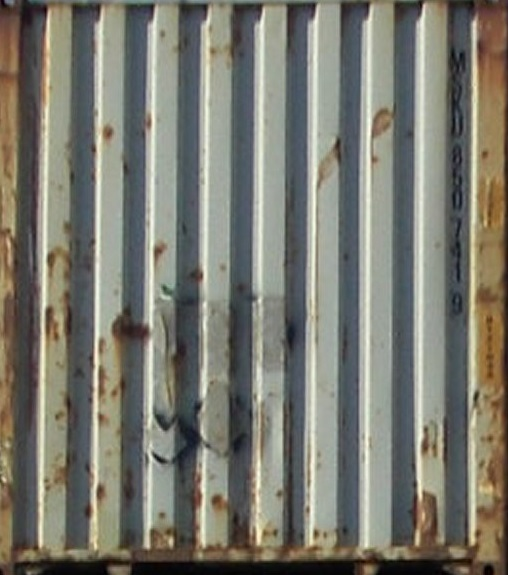container_no_door: (1, 1, 508, 557)
